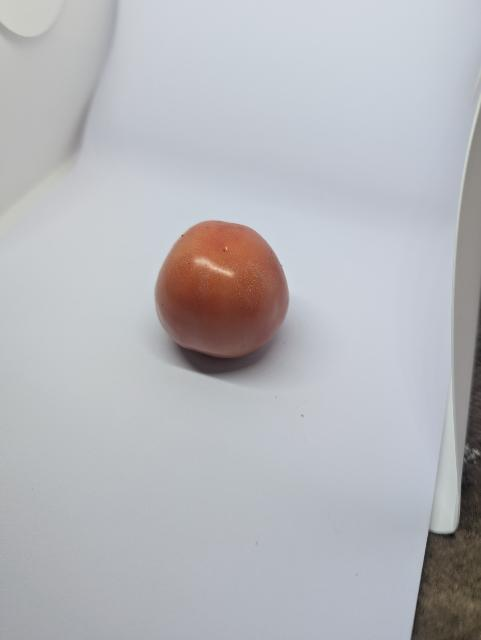red: (148, 209, 310, 375)
